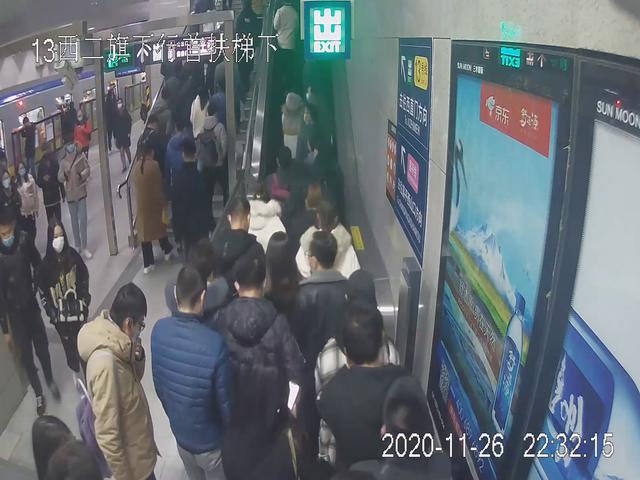person: (221, 251, 307, 480), (147, 263, 238, 476), (72, 281, 167, 480), (323, 304, 431, 477), (31, 219, 103, 397), (128, 146, 178, 269), (174, 139, 215, 255), (56, 138, 92, 253), (109, 100, 136, 167)
